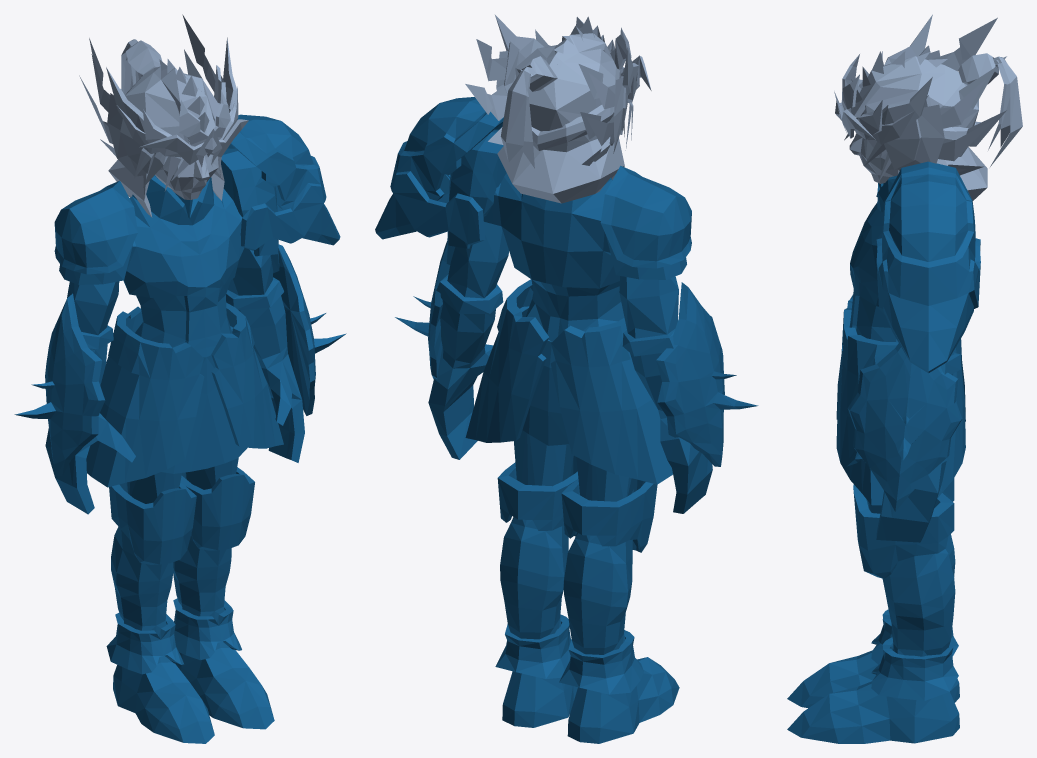
Rendered from character_k2.glb.
3 renders of one model, left to right at view 1: azimuth 30°, elevation 25°; view 2: azimuth 150°, elevation 25°; view 3: azimuth 270°, elevation 25°, orthographic. The views are drawn at different scales.
Visible parts, largest first — view 1: world; view 2: world; view 3: world.
Part boxes in pixels (x1,y1,x2,y2): world: (14, 14, 346, 743); world: (375, 15, 758, 743); world: (787, 14, 1022, 743).
Size of the model in its own units: 1.05 by 1.9 by 0.6027.
